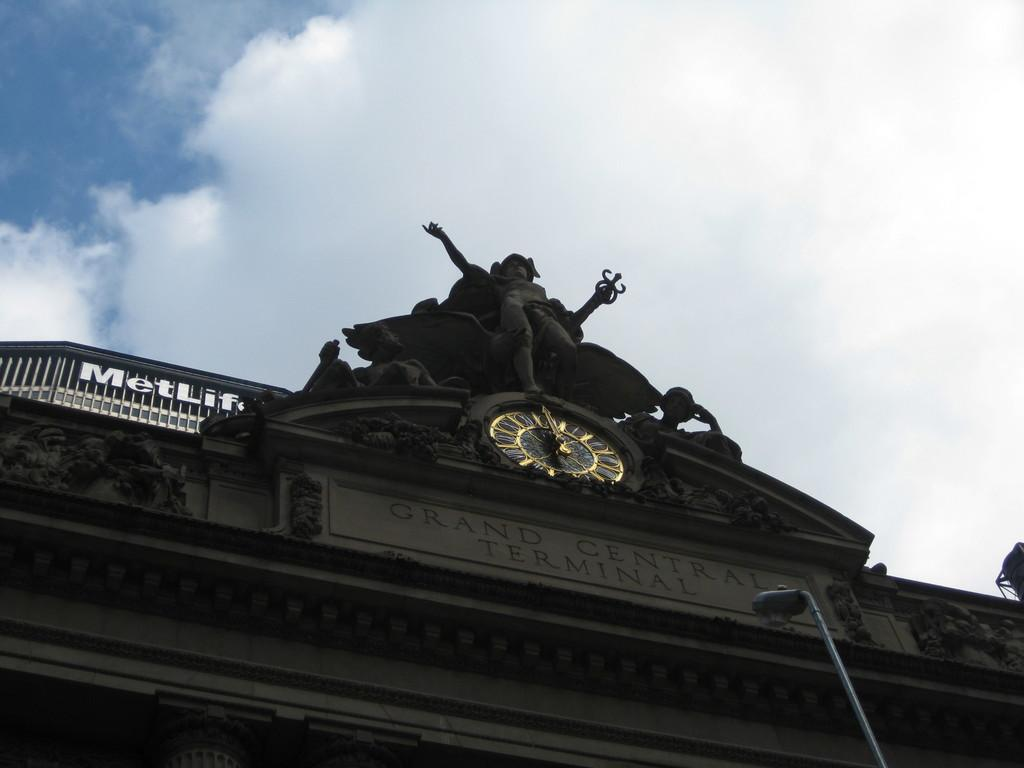knife: (561, 268, 623, 335)
